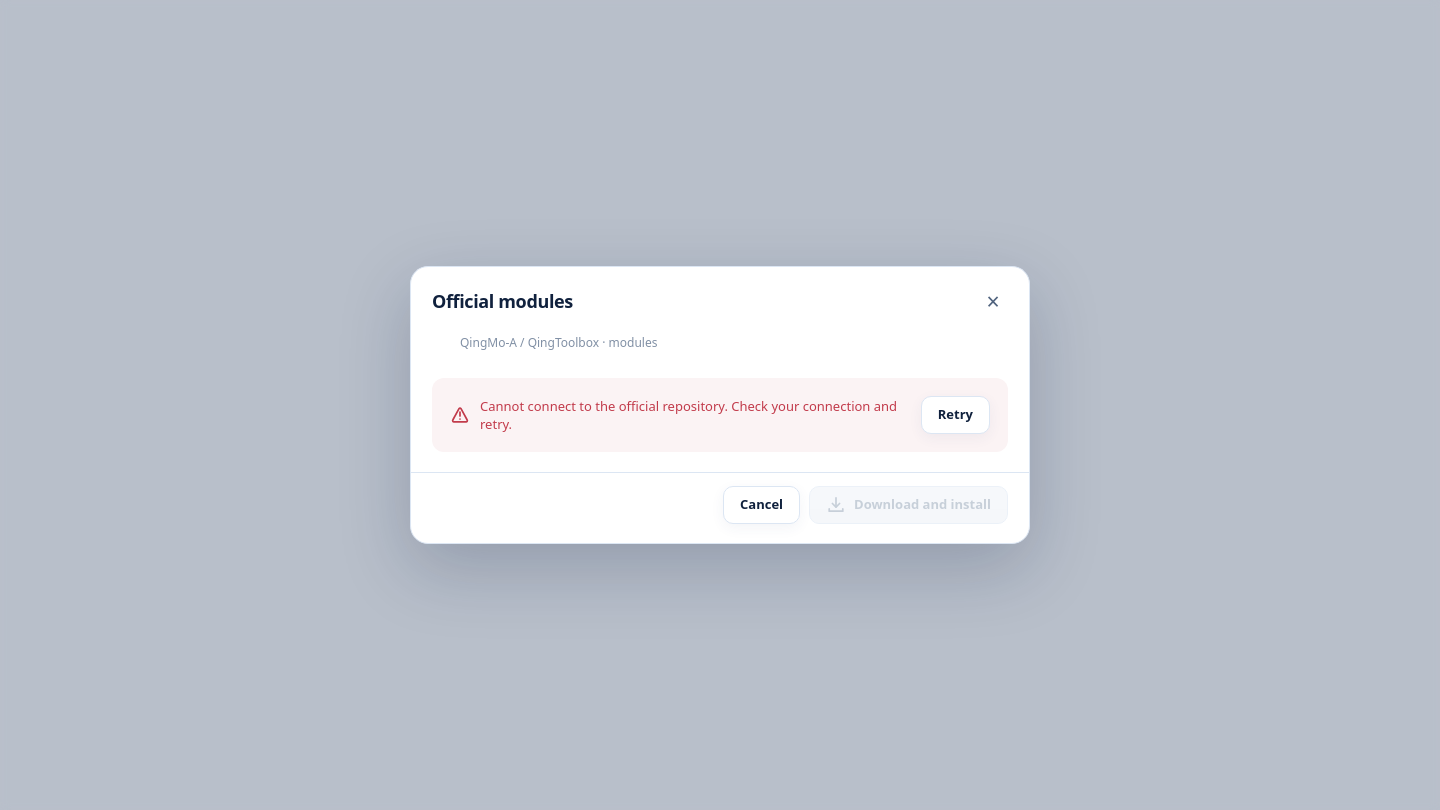
official module dialog › shows errors and retries without inventing modules
The width and height of the screenshot is (1440, 810).
Expected: the message shows "Cannot connect", [480,397,897,433]
Click the button "Retry" at (955, 415), box [921,396,990,434]
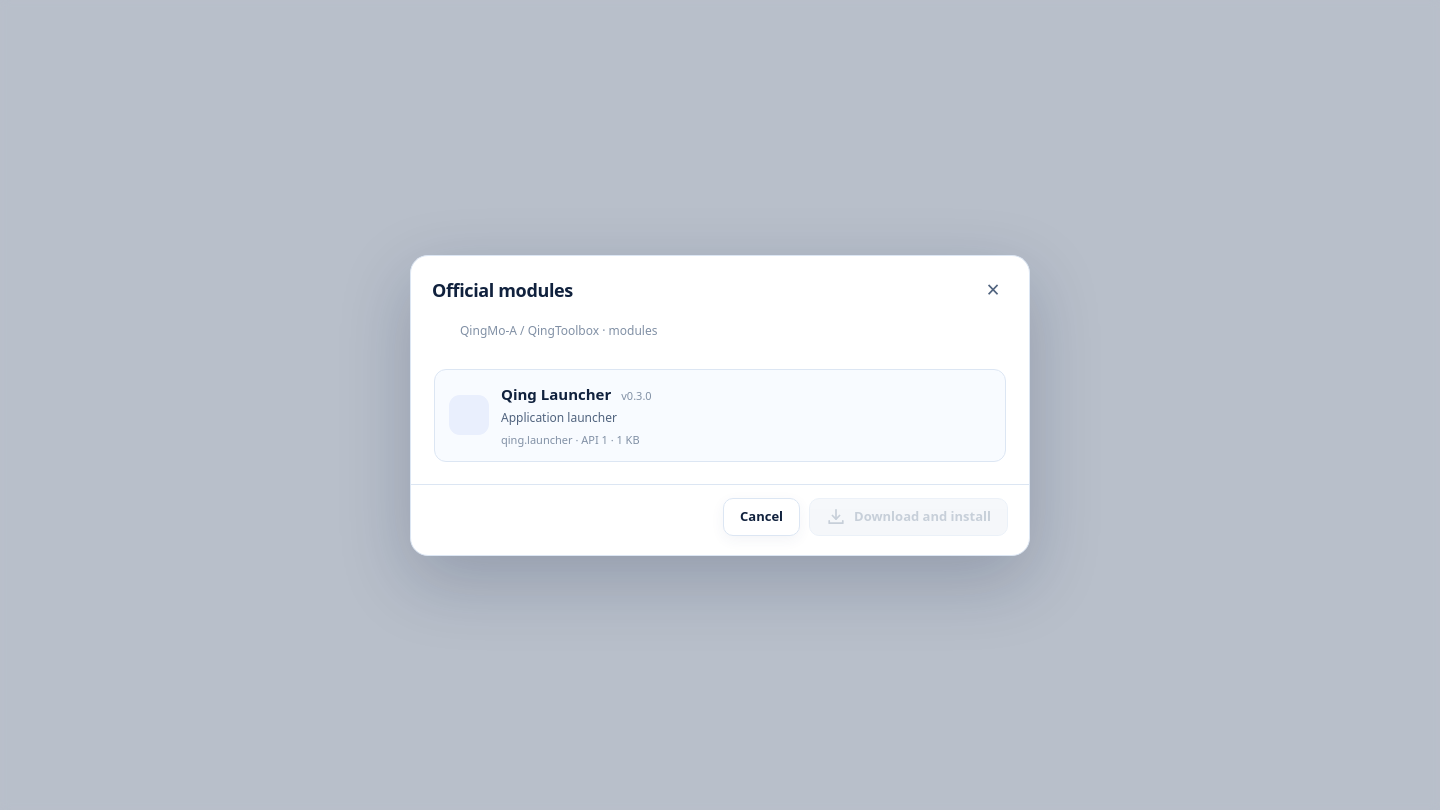
Expected: the button with class "official-module-download" is disabled, [809,498,1008,536]
Result: the number of options is 1 at [434,368,1006,462]
